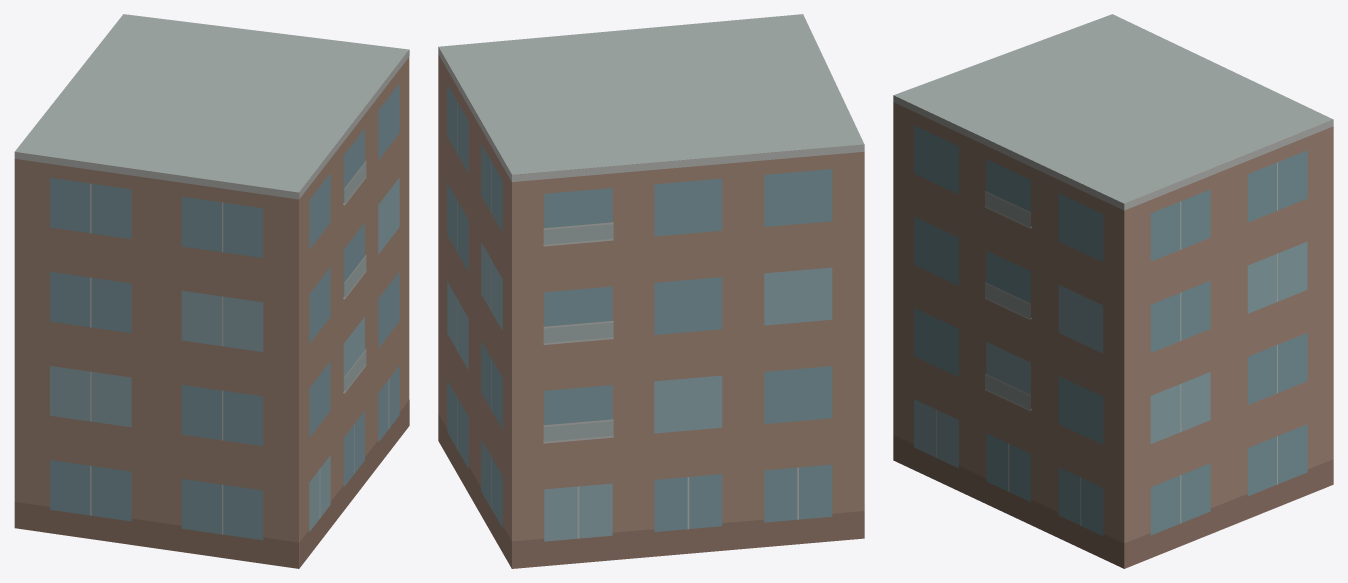
The model's file is survey-upis-32855618.glb.
The picture shows the model from 3 angles, left to right: view 1: azimuth 30°, elevation 25°; view 2: azimuth 150°, elevation 25°; view 3: azimuth 270°, elevation 25°; orthographic projection. The views are drawn at different scales.
Visible parts, largest first — view 1: survey-upis-32855618.tmp; view 2: survey-upis-32855618.tmp; view 3: survey-upis-32855618.tmp.
Part boxes in pixels (x1,y1,x2,y2): survey-upis-32855618.tmp: (14,14,409,568); survey-upis-32855618.tmp: (438,14,864,568); survey-upis-32855618.tmp: (893,14,1333,568).
Bounding box in the file's own units: 14.61 × 13.1 × 14.32.
